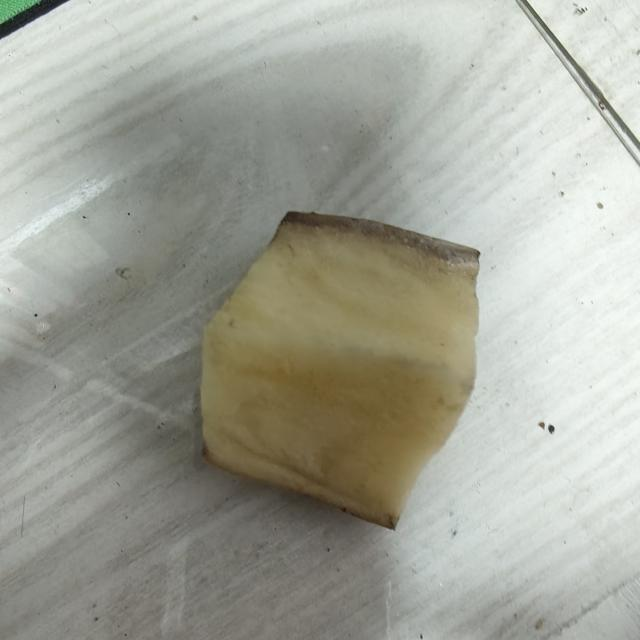-Kitchen waste - potato-: (199, 209, 479, 539)
